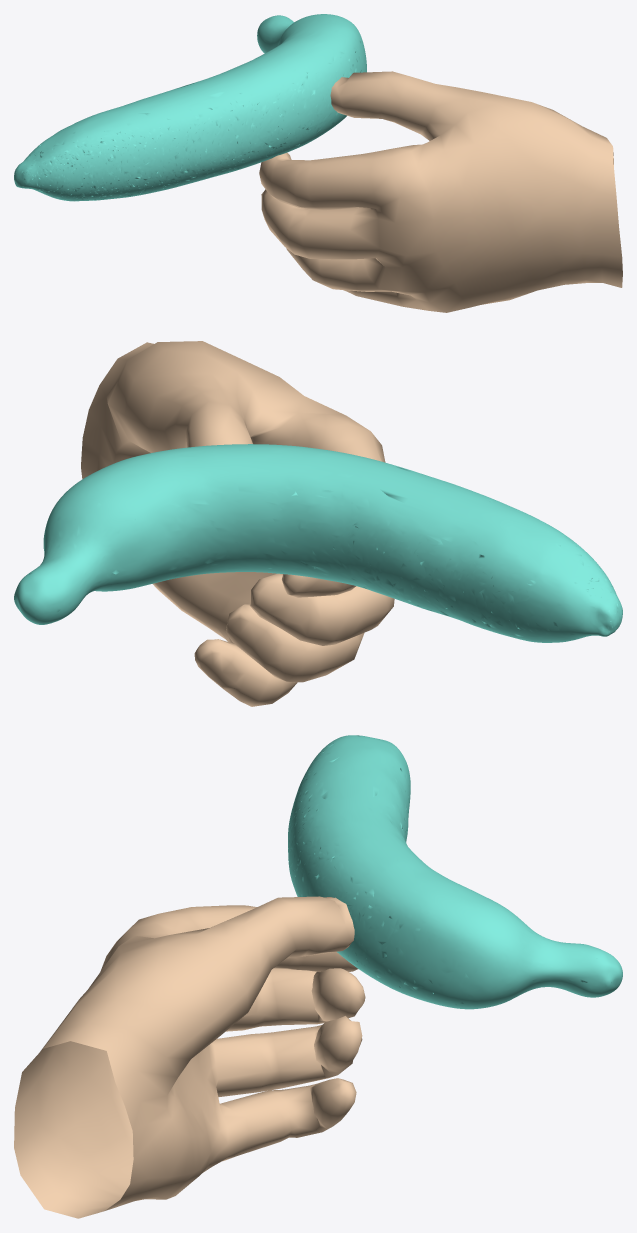
3 views of the same model, one above another, from view 1: azimuth 30°, elevation 25°; view 2: azimuth 150°, elevation 25°; view 3: azimuth 270°, elevation 25° (orthographic). The views are drawn at different scales.
Visible parts, largest first — view 1: hand, world; view 2: world, hand; view 3: hand, world.
Boxes of the visible parts, left/top/right/bottom form: hand: left=259, top=71, right=622, bottom=312; world: left=14, top=14, right=366, bottom=201; world: left=14, top=444, right=622, bottom=642; hand: left=81, top=341, right=394, bottom=706; hand: left=14, top=896, right=365, bottom=1218; world: left=288, top=735, right=622, bottom=1009.
Size of the model in its own units: 0.2388 by 0.1013 by 0.1988.
